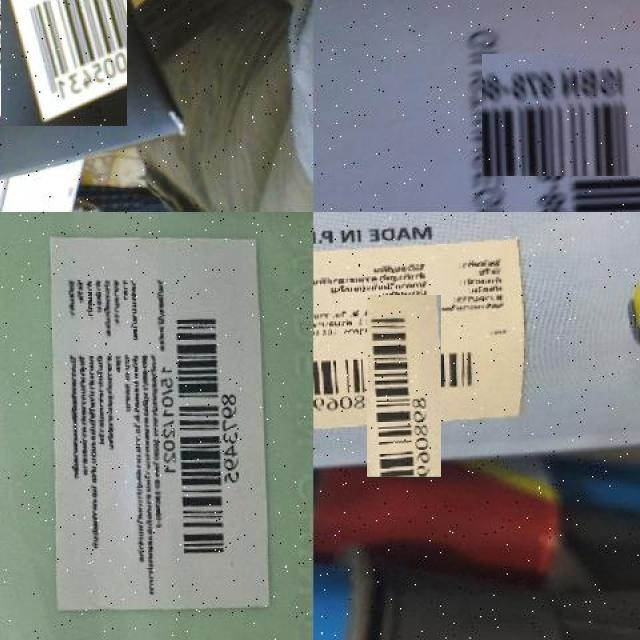Barcode: (499, 37, 640, 195), (173, 311, 247, 572), (340, 321, 468, 450), (0, 0, 127, 127)
